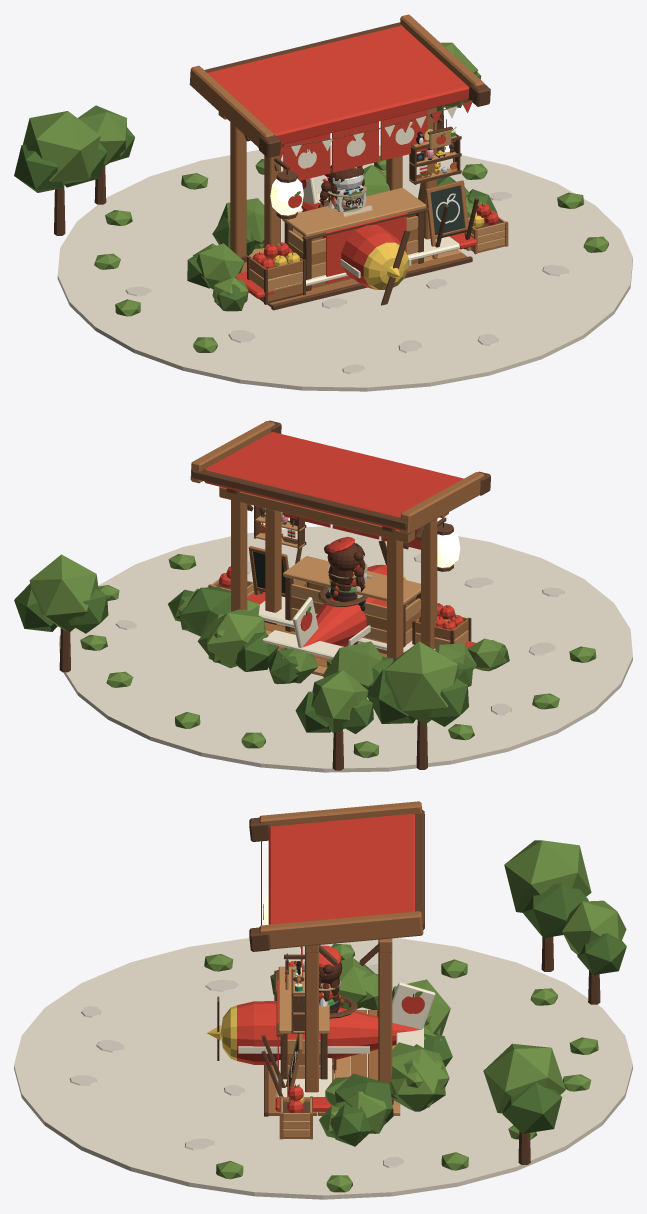
The model's file is aomori.glb.
The picture shows the model from 3 angles, top to bottom: view 1: azimuth 30°, elevation 25°; view 2: azimuth 150°, elevation 25°; view 3: azimuth 270°, elevation 25°; orthographic projection. The views are drawn at different scales.
Parts seen in each view (by area): view 1: Ground, Stall_Roof, Greenery, Stall_Frame, Intro_Plane_Body, Crate, Chalkboard, Noren_C, Noren_R, Noren_L, Counter_Cloth, Upgrade_Crate2 (+5 smaller); view 2: Ground, Greenery, Stall_Roof, Stall_Frame, Intro_Plane_Body, Crate, Chalkboard, Lantern, Chef_Hair_F1, Gift_Shelf; view 3: Ground, Greenery, Stall_Roof, Stall_Frame, Intro_Plane_Body, Upgrade_Crate2, Chalkboard, Gift_Shelf.
Part boxes in pixels (left/top/right/bottom): Ground: left=57, top=144, right=632, bottom=391; Stall_Roof: left=189, top=14, right=490, bottom=157; Greenery: left=14, top=42, right=497, bottom=311; Stall_Frame: left=218, top=107, right=472, bottom=310; Intro_Plane_Body: left=235, top=177, right=477, bottom=298; Crate: left=247, top=242, right=305, bottom=304; Chalkboard: left=425, top=180, right=478, bottom=258; Noren_C: left=332, top=121, right=378, bottom=172; Noren_R: left=380, top=109, right=427, bottom=160; Noren_L: left=283, top=133, right=330, bottom=180; Counter_Cloth: left=325, top=212, right=407, bottom=283; Upgrade_Crate2: left=468, top=202, right=508, bottom=254; Ground: left=59, top=526, right=632, bottom=772; Greenery: left=14, top=554, right=509, bottom=770; Stall_Roof: left=190, top=420, right=490, bottom=534; Stall_Frame: left=219, top=487, right=448, bottom=676; Intro_Plane_Body: left=247, top=564, right=475, bottom=658; Crate: left=412, top=603, right=471, bottom=648; Chalkboard: left=248, top=546, right=302, bottom=596; Lantern: left=437, top=523, right=460, bottom=571; Chef_Hair_F1: left=327, top=543, right=365, bottom=591; Gift_Shelf: left=254, top=505, right=306, bottom=549; Ground: left=14, top=938, right=632, bottom=1199; Greenery: left=270, top=840, right=626, bottom=1164; Stall_Roof: left=249, top=801, right=424, bottom=951; Stall_Frame: left=264, top=938, right=400, bottom=1116; Intro_Plane_Body: left=220, top=982, right=435, bottom=1111; Upgrade_Crate2: left=279, top=1084, right=312, bottom=1139; Chalkboard: left=261, top=1033, right=302, bottom=1097; Gift_Shelf: left=291, top=969, right=304, bottom=1033.
Size of the model in its own units: 8 by 3.09 by 8.
